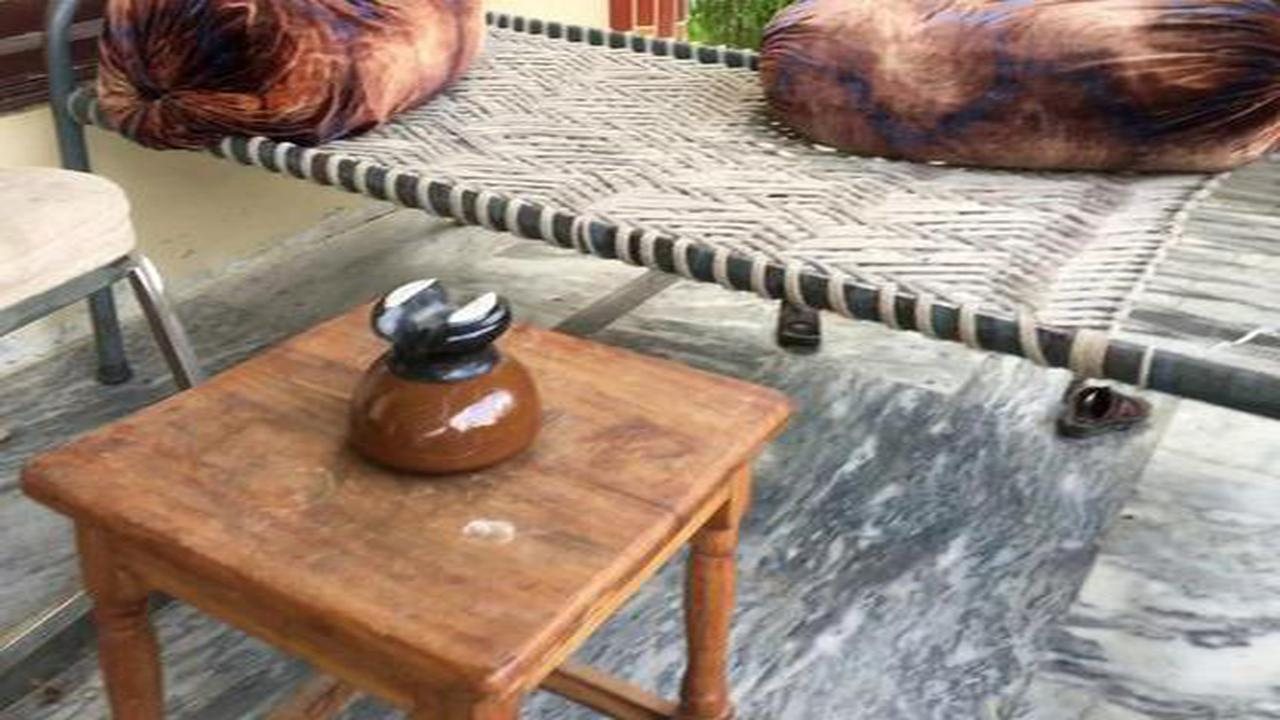insulator_pin: (324, 260, 567, 492)
